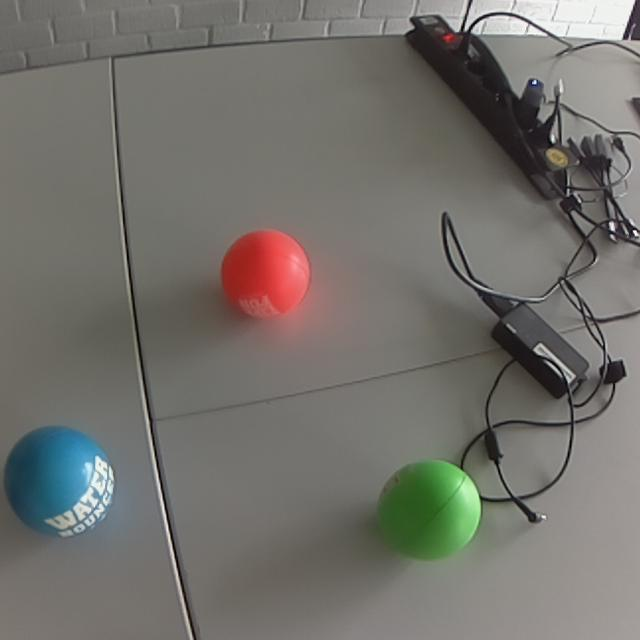ball: (372, 457, 486, 562), (218, 224, 314, 322)
